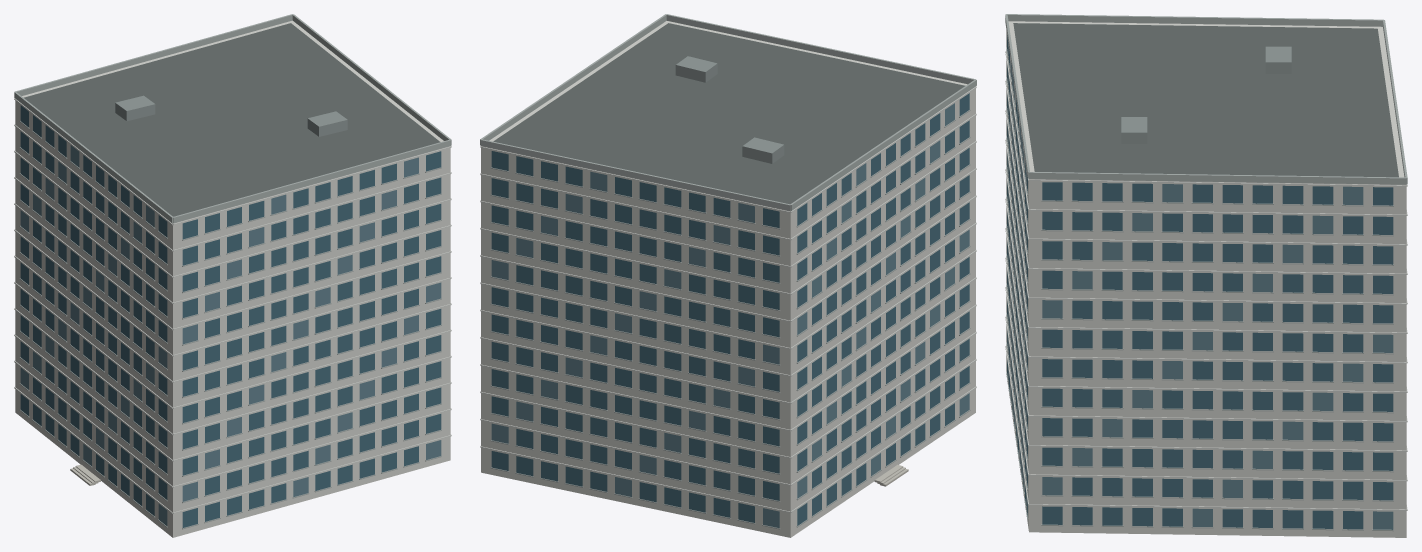
File: 东侧办公园区-004.glb
3 renders of one model, left to right at view 1: azimuth 30°, elevation 25°; view 2: azimuth 150°, elevation 25°; view 3: azimuth 270°, elevation 25°, orthographic. The views are drawn at different scales.
Visible parts, largest first — view 1: 东侧办公园区-004; view 2: 东侧办公园区-004; view 3: 东侧办公园区-004.
Part boxes in pixels (<box>): 东侧办公园区-004: <box>14,14,451,537</box>; 东侧办公园区-004: <box>480,14,976,537</box>; 东侧办公园区-004: <box>1005,14,1407,537</box>.
Size of the model in its own units: 43.01 by 43.42 by 43.29.
